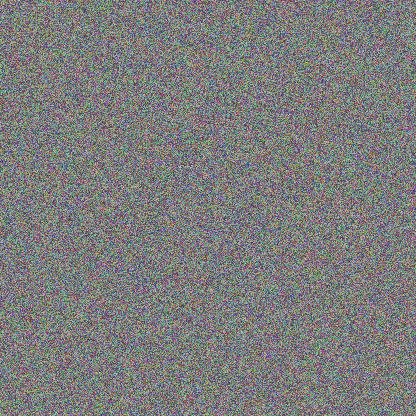empty: (74, 144, 136, 220)
occupied: (62, 256, 122, 364), (48, 229, 127, 277)
